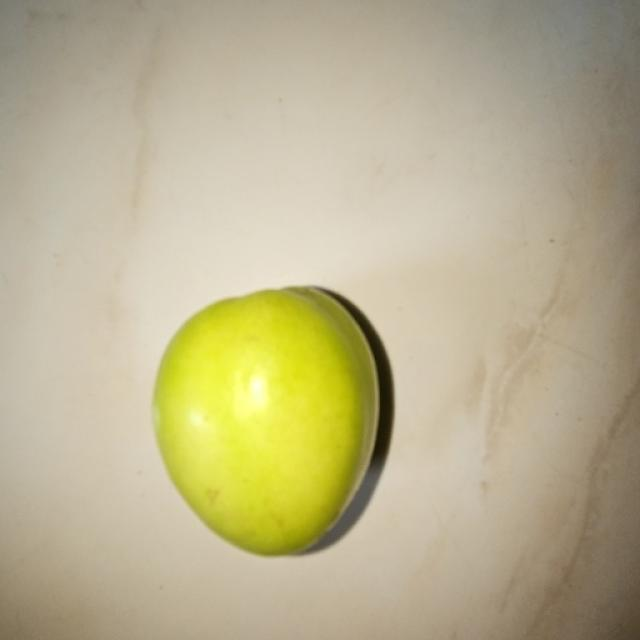Red: (150, 284, 383, 557)
